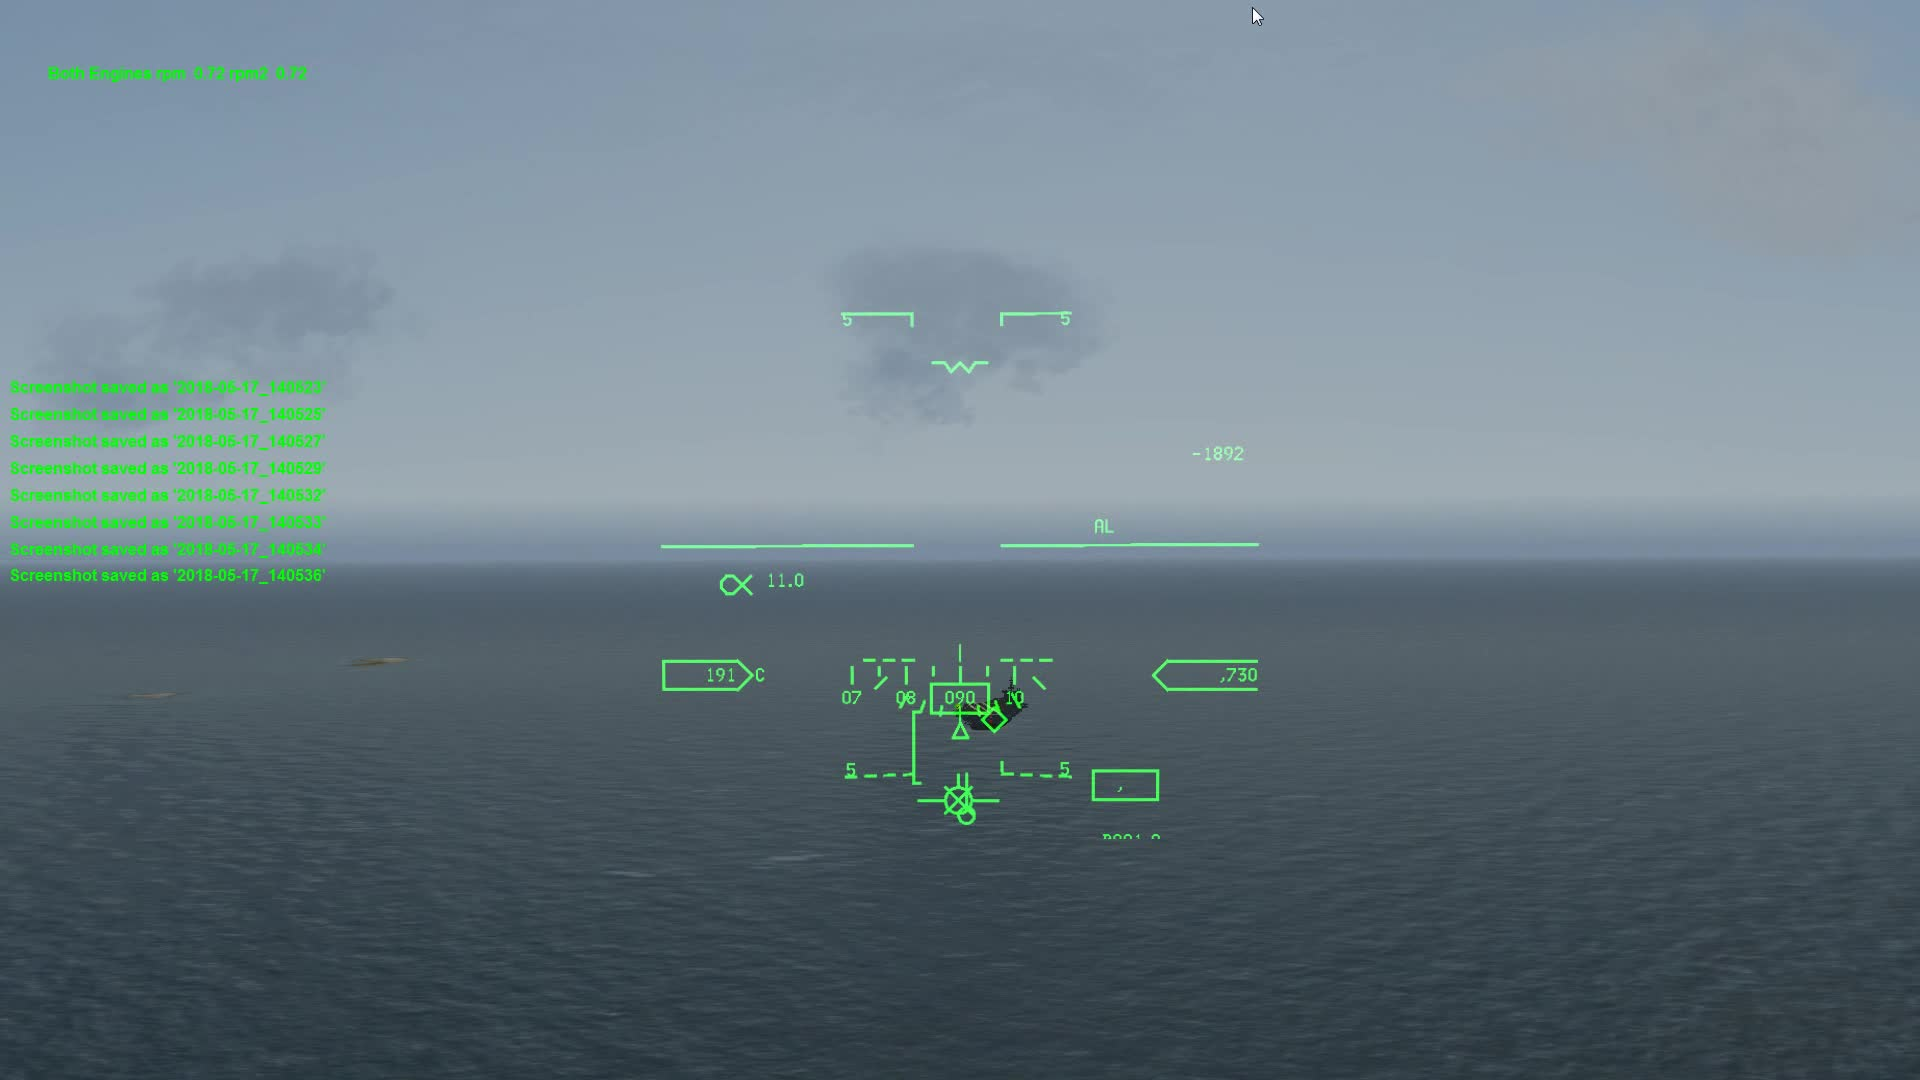speed vector: (907, 766, 998, 831)
